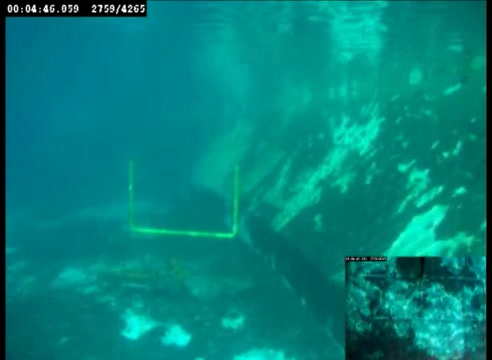channel: (125, 160, 241, 241)
